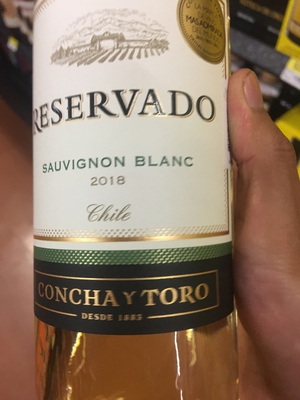reservado sauvignon blanc: (33, 5, 243, 394)
